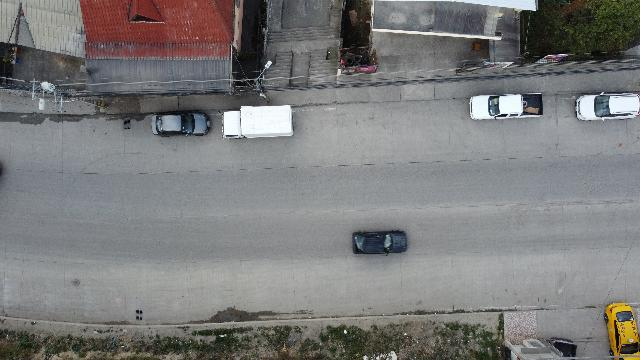Vehiculo: (222, 105, 292, 139), (604, 302, 640, 360), (469, 94, 543, 120), (575, 92, 639, 122), (152, 112, 210, 136), (352, 231, 406, 254)
